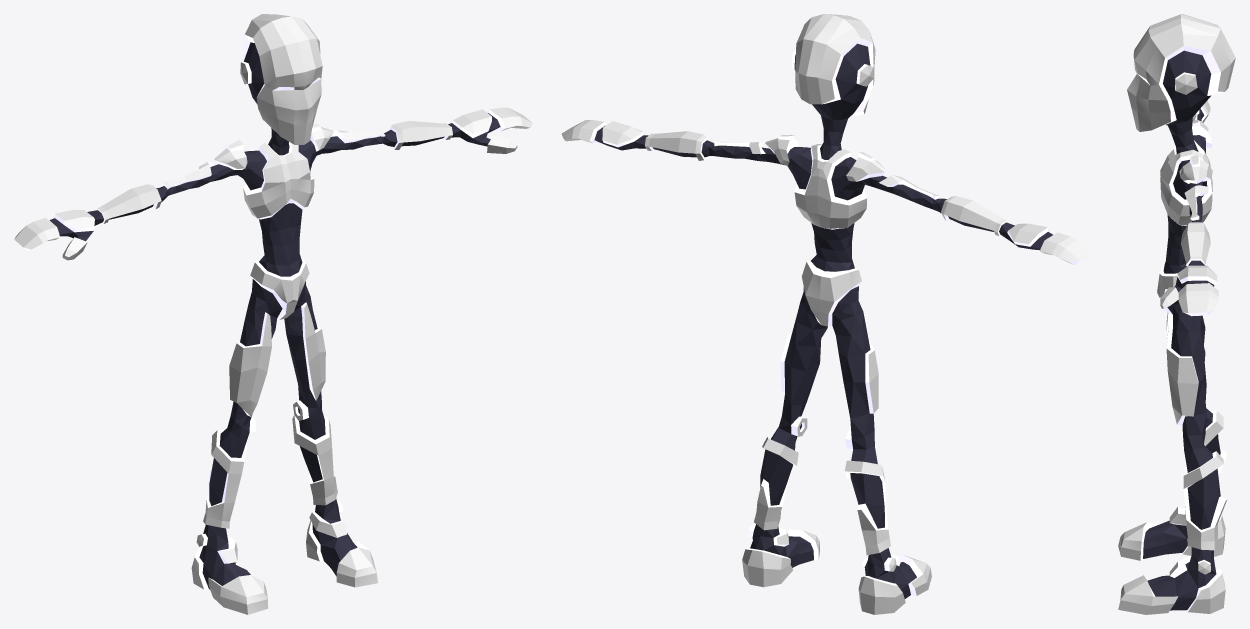
File: robot_lp_model.fbx
3 renders of one model, left to right at view 1: azimuth 30°, elevation 25°; view 2: azimuth 150°, elevation 25°; view 3: azimuth 270°, elevation 25°, orthographic.
Visible parts, largest first — view 1: robot_lp; view 2: robot_lp; view 3: robot_lp.
Part boxes in pixels (box(x1,y1,x2,y2)): robot_lp: box(14, 14, 532, 614); robot_lp: box(561, 14, 1089, 614); robot_lp: box(1118, 14, 1235, 614).
Bounding box in the file's own units: 167 × 33.28 × 175.
1 material, 1 textured.
